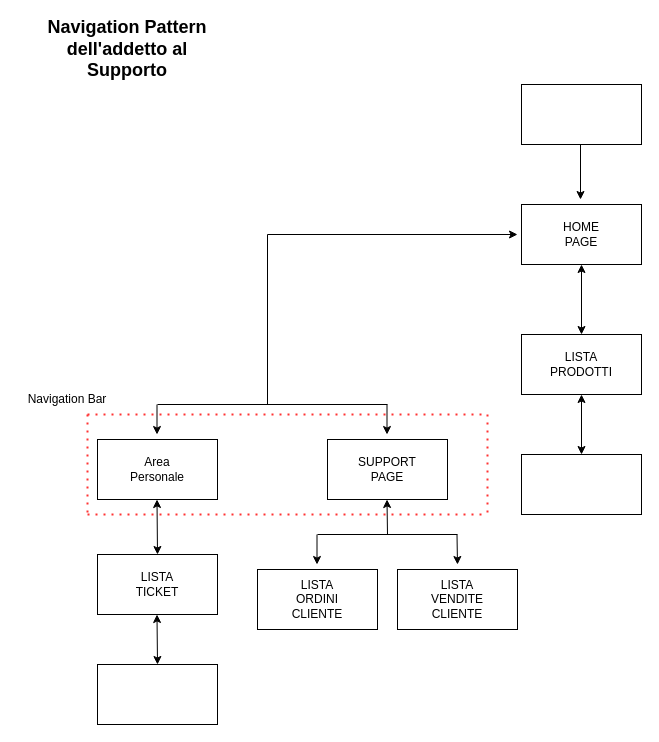
This 659x742 diagram has some shape labels left out. Here are the shapes that lost their labels. From the top down, the centre of each, then its label:
At (x=581, y=114): "INTRO BEHUB".
At (x=581, y=484): "DETTAGLIO PRODOTTO".
At (x=157, y=694): "DETTAGLI TICKET".
